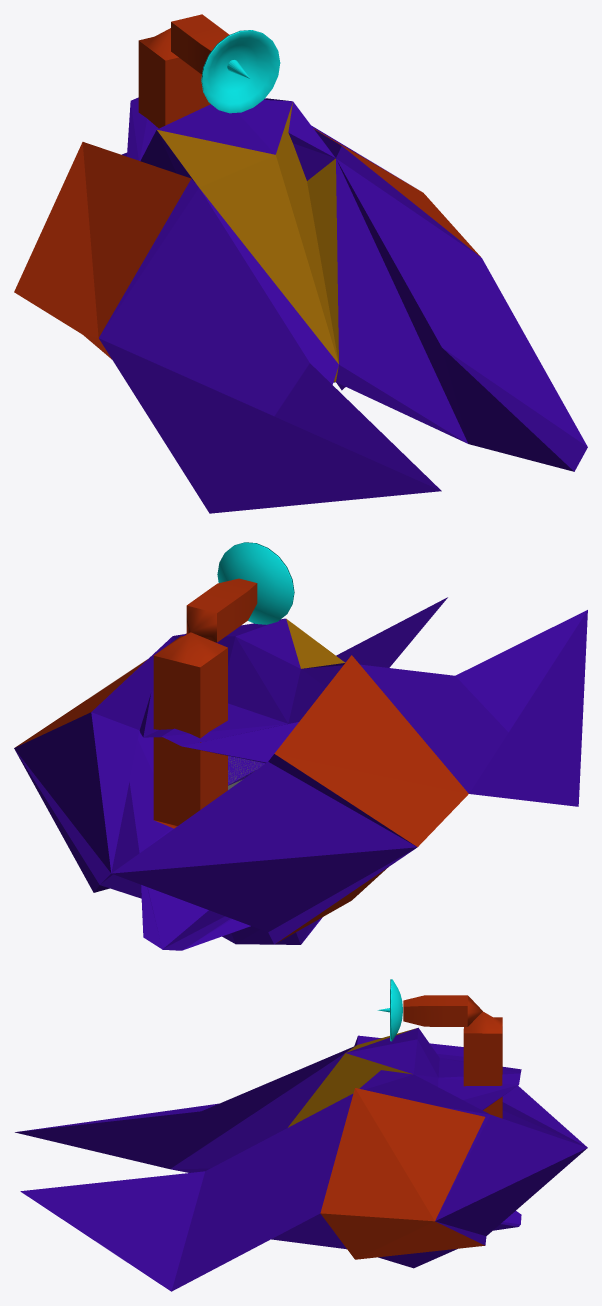
Rendered from Destroyer.fbx.
3 views of the same model, one above another, from view 1: azimuth 30°, elevation 25°; view 2: azimuth 150°, elevation 25°; view 3: azimuth 270°, elevation 25° (orthographic). The views are drawn at different scales.
Visible parts, largest first — view 1: polySurface3, Effector, Arm_Base, Arm; view 2: polySurface3, Arm_Base, Effector, Arm; view 3: polySurface3, Arm_Base, Arm, Effector.
Boxes of the visible parts, x1=… form: polySurface3: x1=14, y1=97, x2=587, y2=513; Effector: x1=201, y1=30, x2=280, y2=113; Arm_Base: x1=138, y1=28, x2=210, y2=128; Arm: x1=171, y1=14, x2=229, y2=74; polySurface3: x1=14, y1=597, x2=587, y2=950; Arm_Base: x1=153, y1=632, x2=227, y2=828; Effector: x1=217, y1=542, x2=294, y2=624; Arm: x1=186, y1=578, x2=257, y2=642; polySurface3: x1=15, y1=1027, x2=587, y2=1291; Arm_Base: x1=463, y1=1011, x2=502, y2=1118; Arm: x1=403, y1=995, x2=482, y2=1026; Effector: x1=377, y1=979, x2=402, y2=1041.
Bounding box in the file's own units: 4.3 × 3.94 × 7.44.
